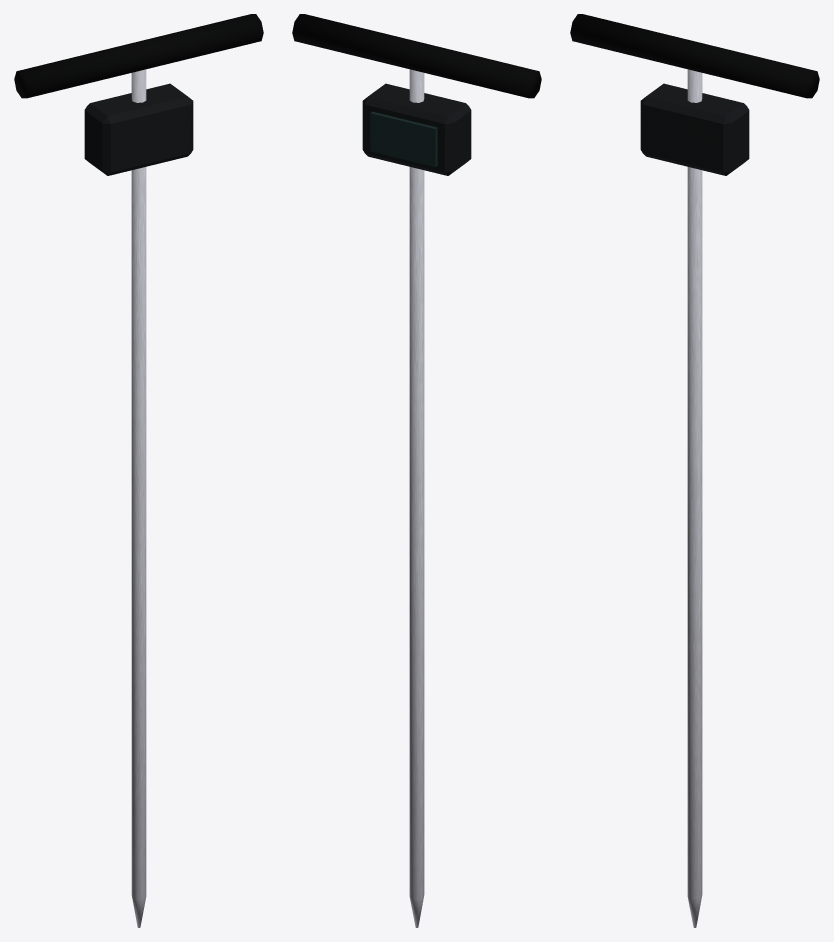
File: SoilProbe.gltf
The picture shows the model from 3 angles, left to right: view 1: azimuth 30°, elevation 25°; view 2: azimuth 150°, elevation 25°; view 3: azimuth 330°, elevation 25°; orthographic projection.
Parts seen in each view (by area): view 1: SoilProbe__Body; view 2: SoilProbe__Body; view 3: SoilProbe__Body.
Part boxes in pixels (bbox=[...]): SoilProbe__Body: bbox=[14, 14, 263, 927]; SoilProbe__Body: bbox=[292, 14, 541, 927]; SoilProbe__Body: bbox=[570, 14, 819, 927].
Bounding box in the file's own units: 0.252 × 0.9086 × 0.0487.
1 material, 1 textured.
